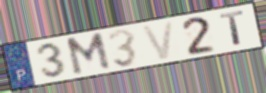2: (181, 15, 217, 57)
3: (107, 28, 140, 69), (35, 41, 68, 80)
M: (64, 30, 114, 78)
T: (218, 9, 246, 48)
V: (140, 20, 176, 62)
